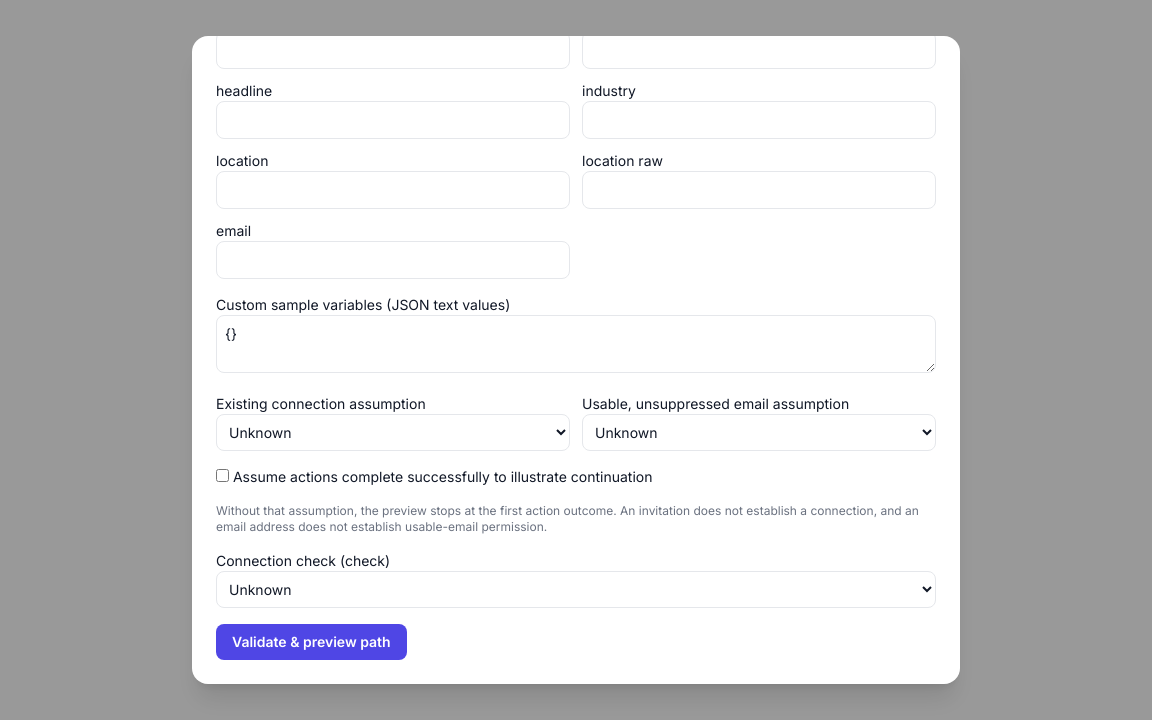
Scenario: Supplied-data sequence review › rejects an old nonce or a response claiming execution authority
(page scrolled)
Click the button "Validate & preview path": [311, 642] box [216,624,407,660]
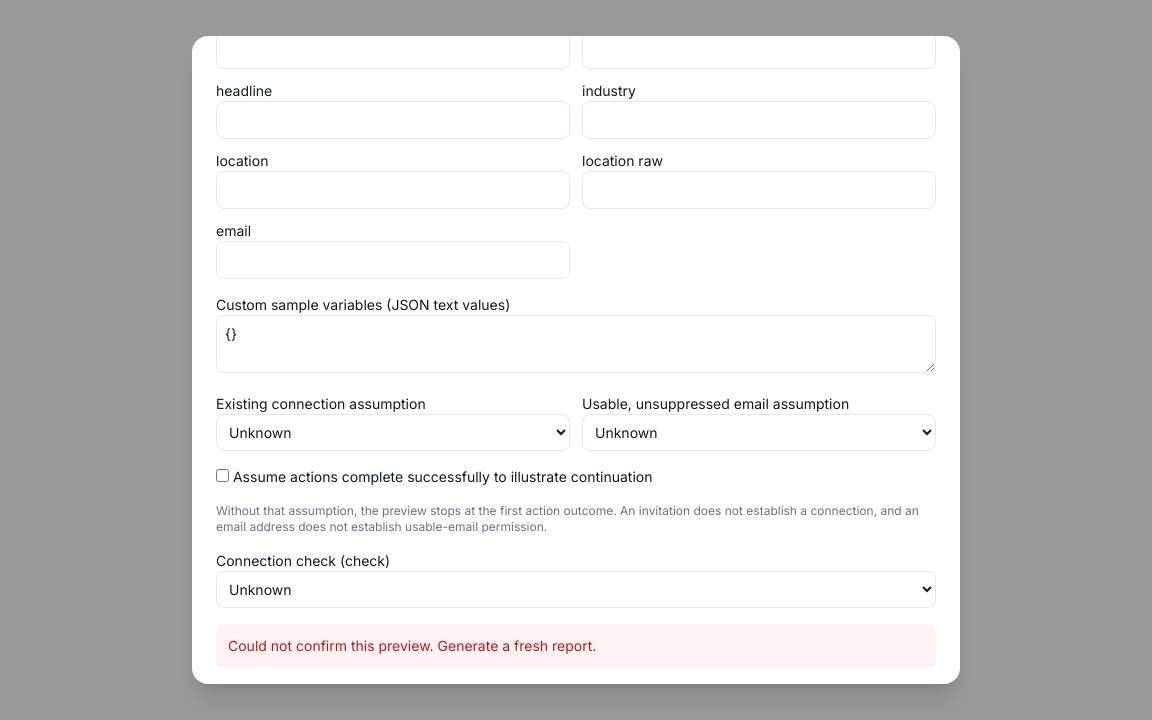
Now the message "Could not confirm this preview. Generate a fresh report." is shown, box [216,624,936,668]
